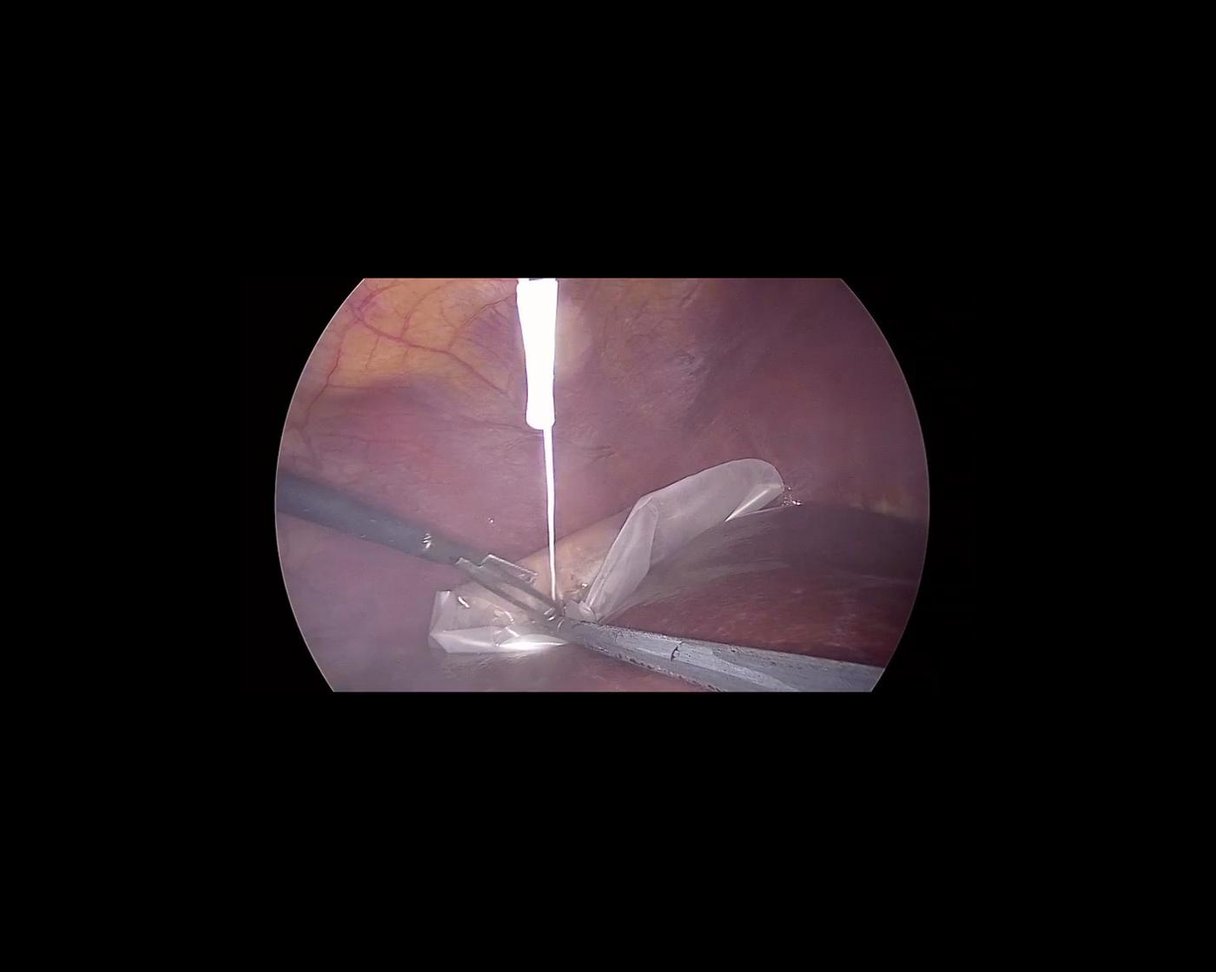Bag: (300, 260, 802, 762)
Forceps: (261, 466, 571, 628), (542, 616, 887, 717)
Liver: (321, 495, 944, 734)
